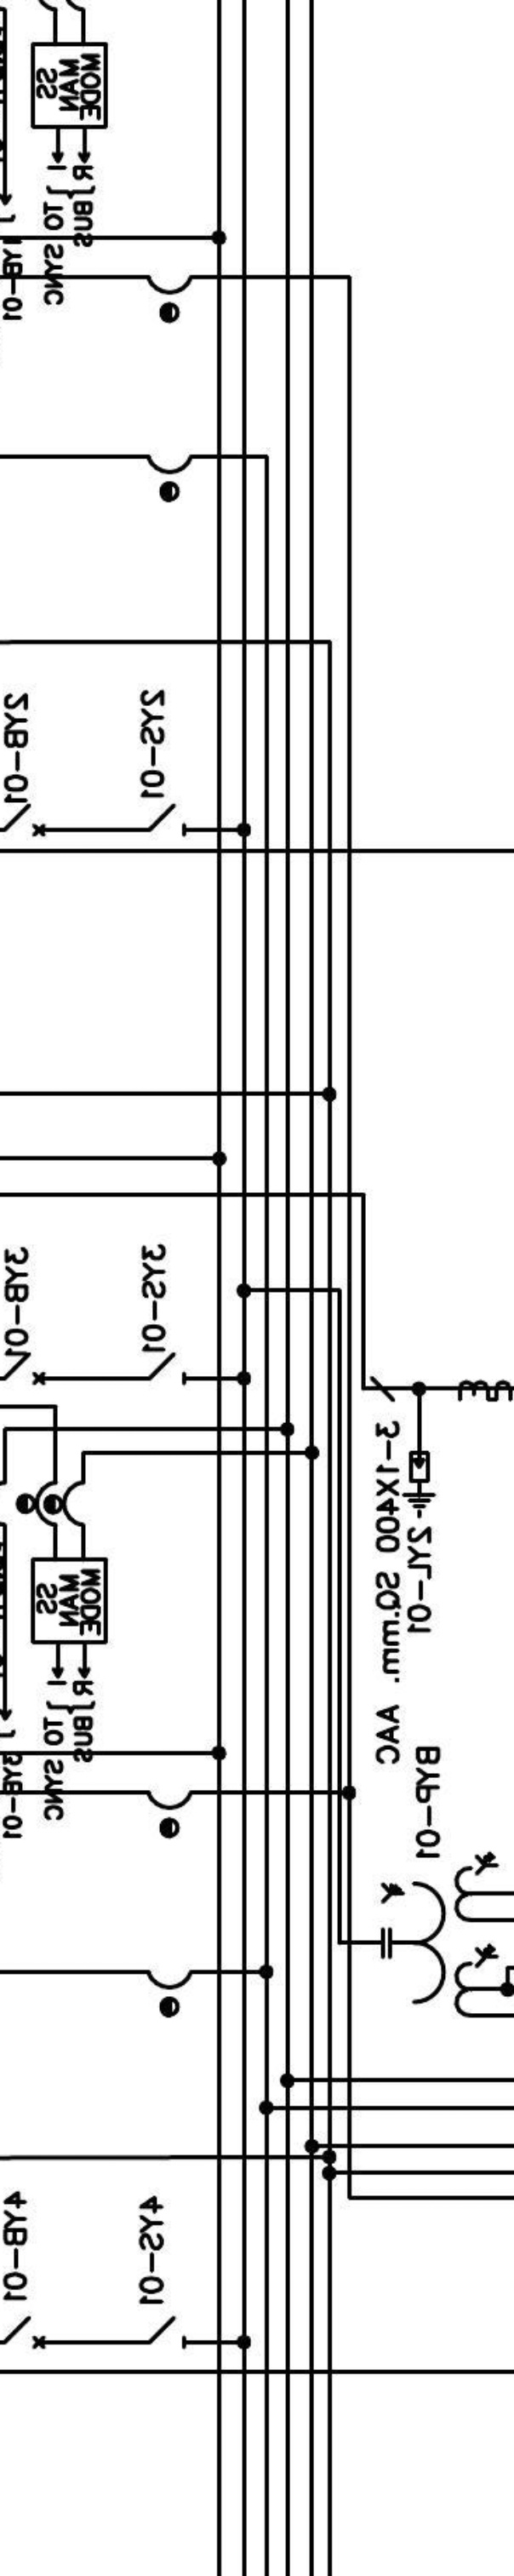115_breaker: (3, 1351, 46, 1386), (3, 803, 47, 837), (3, 2315, 47, 2349)
115_cvt_3p: (380, 1850, 500, 2018)
115_ds: (147, 1351, 186, 1387), (147, 2315, 186, 2351), (147, 803, 186, 838)
115_la: (401, 1450, 437, 1519)
ss_man_mode: (30, 41, 109, 130), (30, 1557, 109, 1645)
